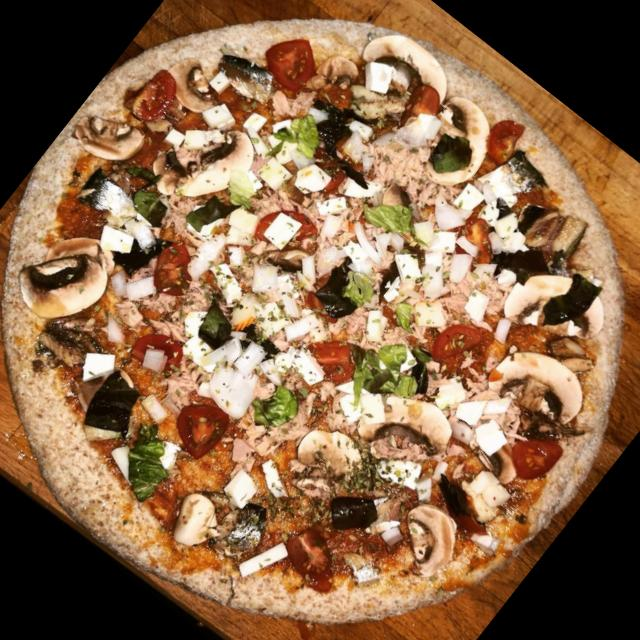mushrooms: (1, 218, 124, 344), (345, 16, 470, 134), (494, 243, 614, 360), (401, 84, 516, 204), (345, 365, 459, 476), (484, 328, 598, 436), (160, 113, 266, 224), (380, 488, 482, 592), (154, 474, 243, 564), (290, 414, 374, 496), (66, 93, 148, 174), (456, 417, 530, 488), (212, 46, 282, 110), (254, 226, 312, 284)
pizza: (0, 18, 624, 629)
